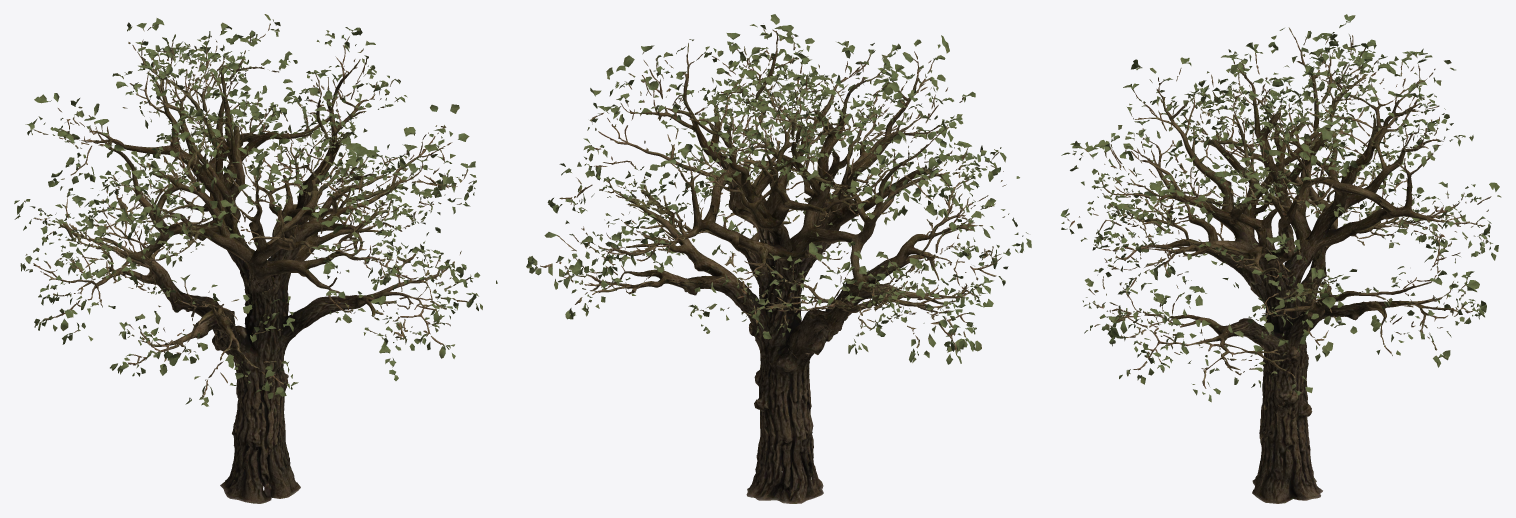
Rendered from tree_big.glb.
3 renders of one model, left to right at view 1: azimuth 30°, elevation 25°; view 2: azimuth 150°, elevation 25°; view 3: azimuth 270°, elevation 25°, orthographic. The views are drawn at different scales.
Visible parts, largest first — view 1: world; view 2: world; view 3: world.
Part boxes in pixels (left/top/right/bottom): world: left=14, top=14, right=497, bottom=503; world: left=526, top=14, right=1031, bottom=503; world: left=1060, top=14, right=1501, bottom=503.
Bounding box in the file's own units: 0.9681 × 0.9769 × 0.8978.
Materials: 1 (1 with a texture image).
